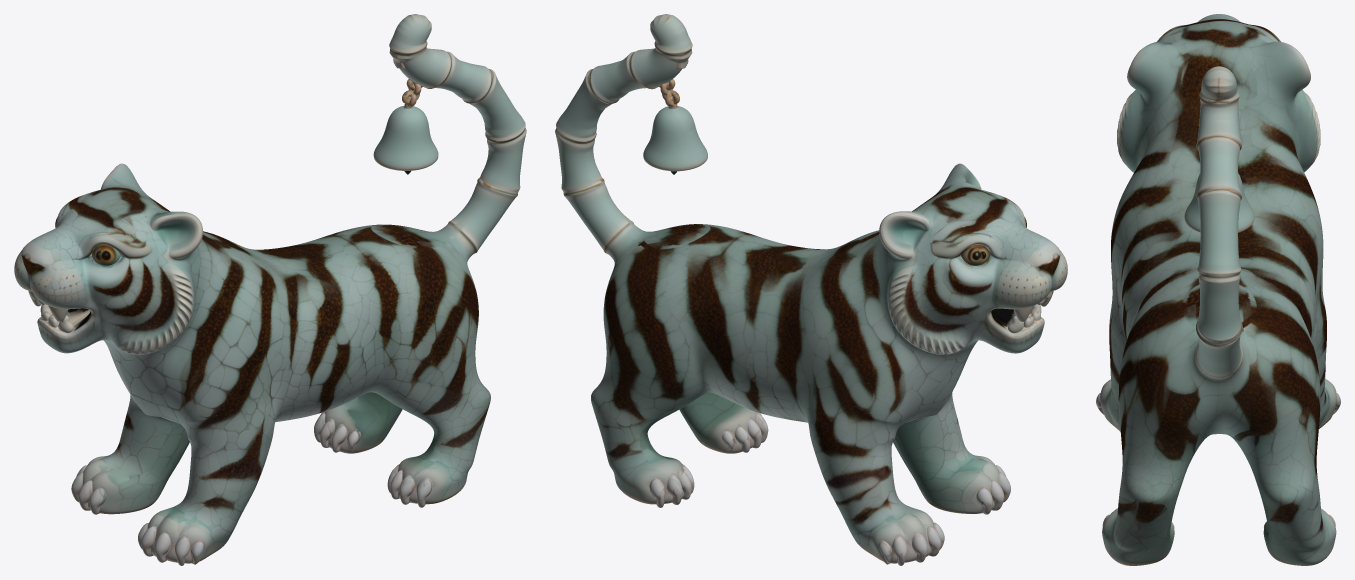
Rendered from ainimal_9_compressed.glb.
3 views of the same model, side by side, from view 1: azimuth 30°, elevation 25°; view 2: azimuth 150°, elevation 25°; view 3: azimuth 270°, elevation 25° (orthographic). The views are drawn at different scales.
Parts seen in each view (by area): view 1: texture_v128_768.001; view 2: texture_v128_768.001; view 3: texture_v128_768.001.
Boxes of the visible parts, bbox=[...] form: texture_v128_768.001: bbox=[14, 14, 526, 565]; texture_v128_768.001: bbox=[555, 14, 1067, 565]; texture_v128_768.001: bbox=[1096, 14, 1340, 565].
Bounding box in the file's own units: 1.1 × 0.9421 × 0.4182.
Materials: 1 (1 with a texture image).
